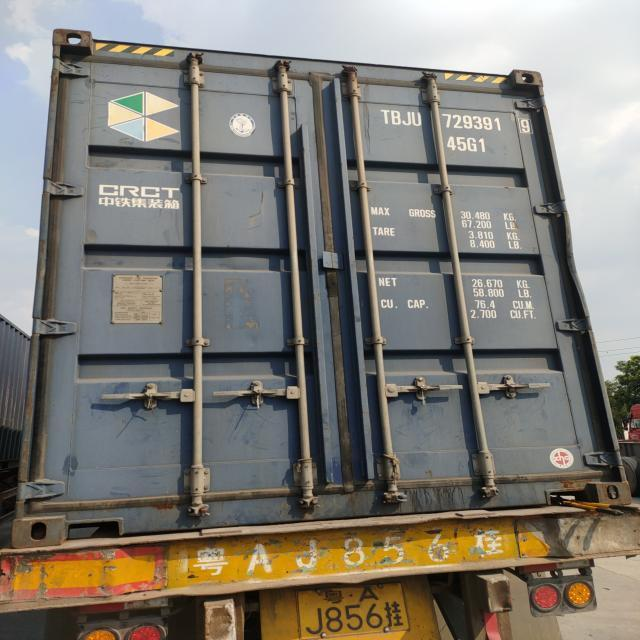ISO: (448, 136, 487, 154)
container_number: (386, 109, 532, 135)
